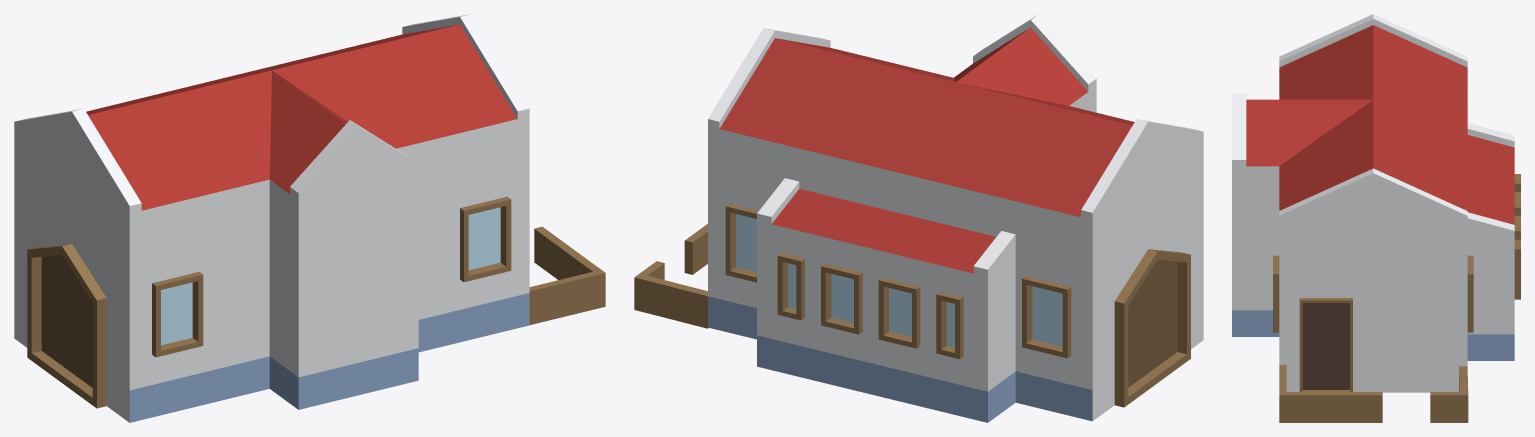
Rendered from House.fbx.
3 renders of one model, left to right at view 1: azimuth 30°, elevation 25°; view 2: azimuth 150°, elevation 25°; view 3: azimuth 270°, elevation 25°, orthographic. The views are drawn at different scales.
Parts seen in each view (by area): view 1: House.001; view 2: House.001; view 3: House.001.
Boxes of the visible parts, x1,y1,x2,y2 form: House.001: (14, 14, 605, 422); House.001: (634, 14, 1203, 422); House.001: (1232, 14, 1520, 422).
Bounding box in the file's own units: 2224 × 1183 × 1403.
